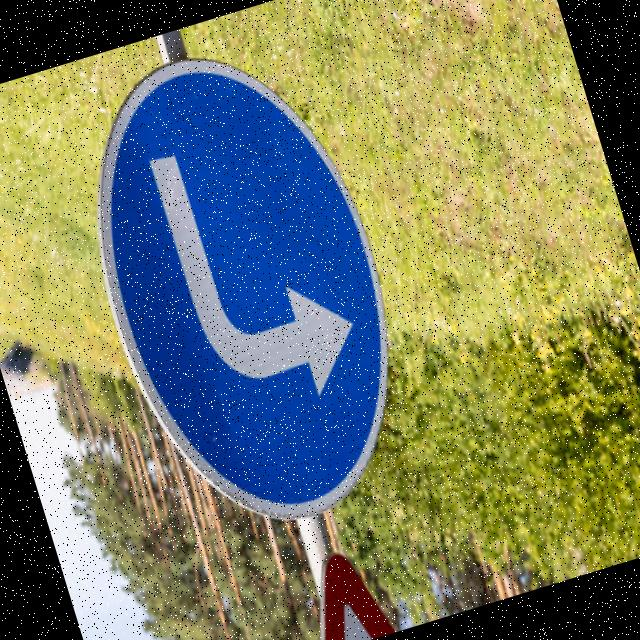compulsory_keep_right: (47, 20, 456, 565)
